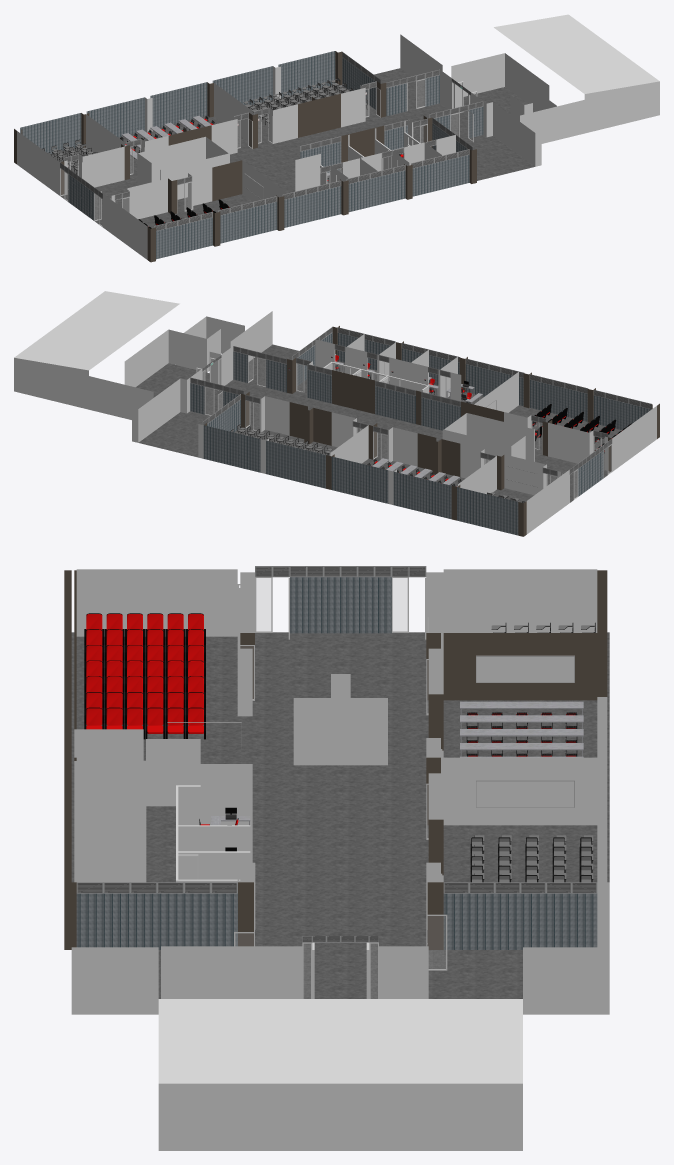
File: EISCFirstFloor.glb
3 views of the same model, one above another, from view 1: azimuth 30°, elevation 25°; view 2: azimuth 150°, elevation 25°; view 3: azimuth 270°, elevation 25° (orthographic). The views are drawn at different scales.
Parts seen in each view (by area): view 1: StructureFirstFloor, FirstFloor, ChairsA1, DesksA2, ChairsA3, ChairAuditorioA4; view 2: StructureFirstFloor, FirstFloor, ChairAuditorioA4, ChairsA1, DesksA2, WhiteboardA3; view 3: StructureFirstFloor, FirstFloor, ChairAuditorioA4, DesksA2, ChairsA1, WhiteboardA1, WhiteboardA2, ChairsA2.
Part boxes in pixels (x1=…): StructureFirstFloor: x1=14, y1=14, x2=659, y2=262; FirstFloor: x1=50, y1=68, x2=534, y2=228; ChairsA1: x1=243, y1=78, x2=367, y2=127; DesksA2: x1=122, y1=116, x2=211, y2=159; ChairsA3: x1=42, y1=139, x2=97, y2=174; ChairAuditorioA4: x1=138, y1=199, x2=230, y2=228; StructureFirstFloor: x1=14, y1=291, x2=659, y2=536; FirstFloor: x1=136, y1=344, x2=621, y2=502; ChairAuditorioA4: x1=532, y1=404, x2=631, y2=453; ChairsA1: x1=230, y1=424, x2=332, y2=455; DesksA2: x1=372, y1=458, x2=459, y2=486; WhiteboardA3: x1=506, y1=466, x2=537, y2=487; StructureFirstFloor: x1=64, y1=566, x2=609, y2=1150; FirstFloor: x1=71, y1=632, x2=609, y2=998; ChairAuditorioA4: x1=84, y1=613, x2=205, y2=739; DesksA2: x1=460, y1=701, x2=583, y2=757; ChairsA1: x1=470, y1=835, x2=593, y2=882; WhiteboardA1: x1=476, y1=780, x2=574, y2=807; WhiteboardA2: x1=476, y1=655, x2=574, y2=682; ChairsA2: x1=466, y1=712, x2=577, y2=756.
Bounding box in the file's own units: 49.5 × 3.5 × 22.
Materials: 33 (17 with a texture image).
